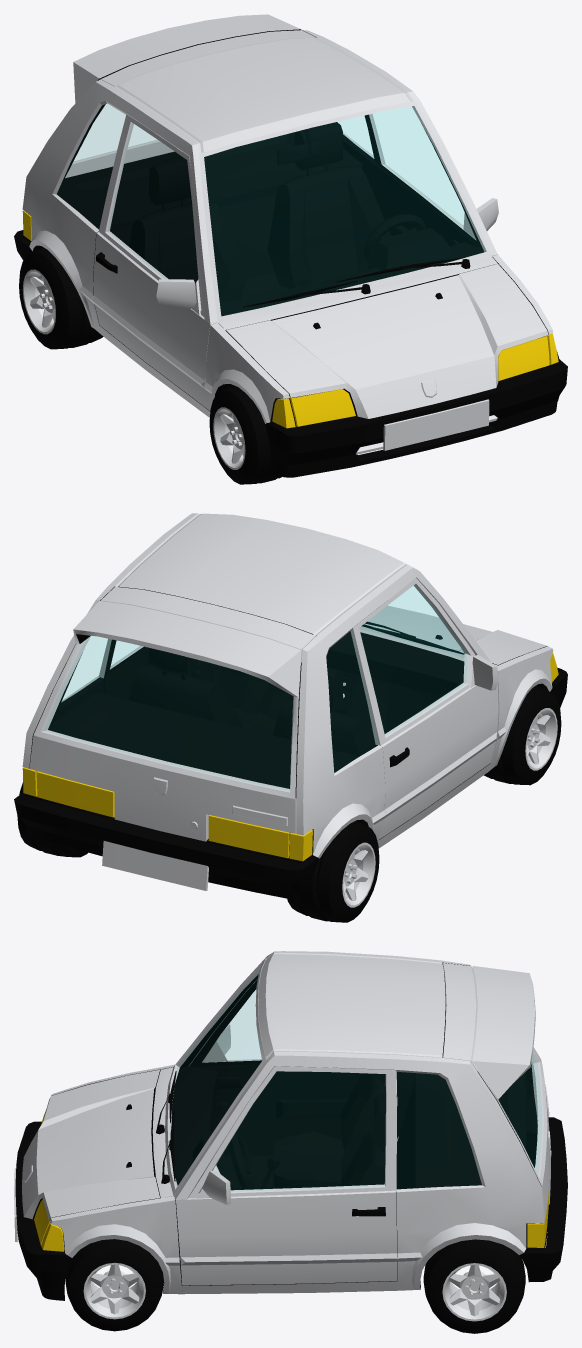
Rendered from car2.fbx.
3 renders of one model, top to bottom at view 1: azimuth 30°, elevation 25°; view 2: azimuth 150°, elevation 25°; view 3: azimuth 270°, elevation 25°, orthographic. The views are drawn at different scales.
Visible parts, largest first — view 1: car2; view 2: car2; view 3: car2.
Boxes of the visible parts, box(x1,y1,x2,y2) form: car2: box(14, 14, 567, 484); car2: box(14, 513, 567, 922); car2: box(14, 951, 567, 1333).
Size of the model in its own units: 114 by 87.82 by 165.
